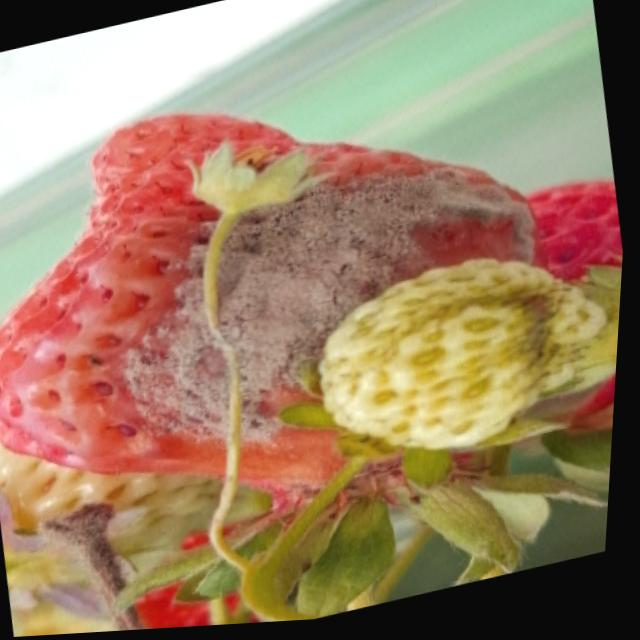Gray Mold: (29, 143, 543, 489)
